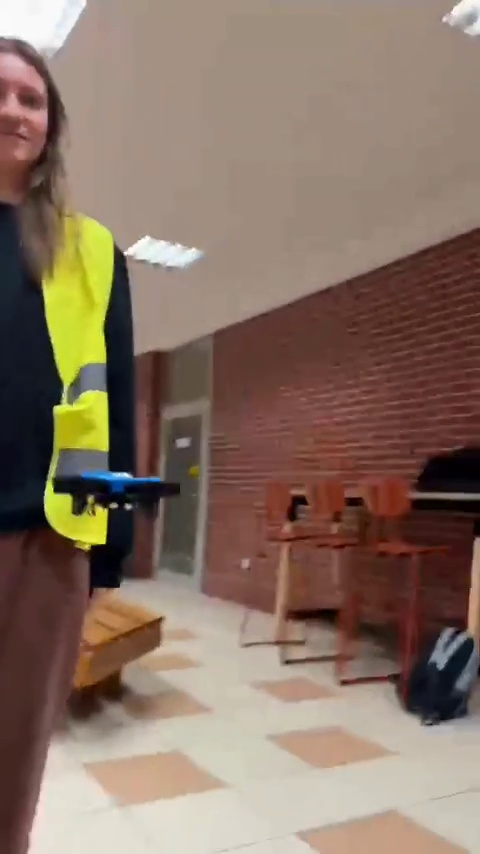drone: (54, 473, 179, 512)
vest: (0, 69, 149, 839)
